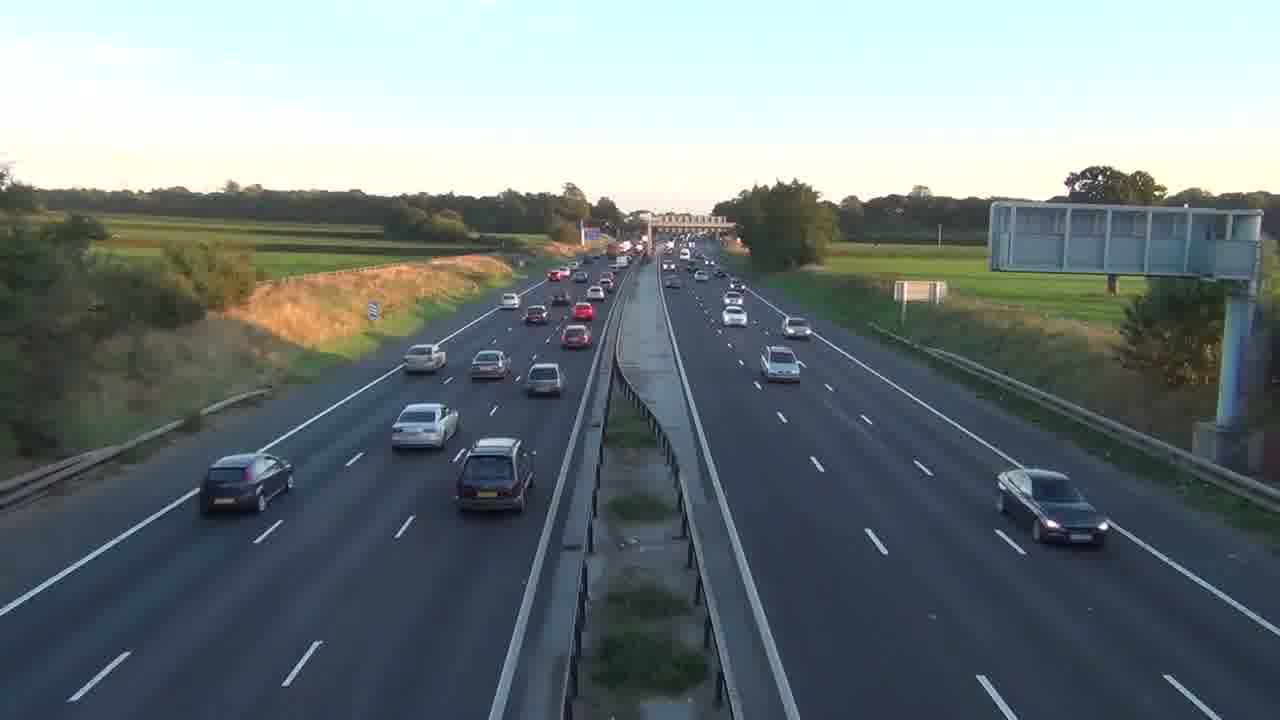car: (994, 466, 1110, 547), (452, 435, 535, 514), (199, 452, 294, 515), (390, 401, 460, 452), (759, 344, 805, 383), (524, 362, 564, 398), (469, 349, 510, 382), (403, 343, 447, 373), (560, 321, 594, 350), (523, 305, 548, 325)
